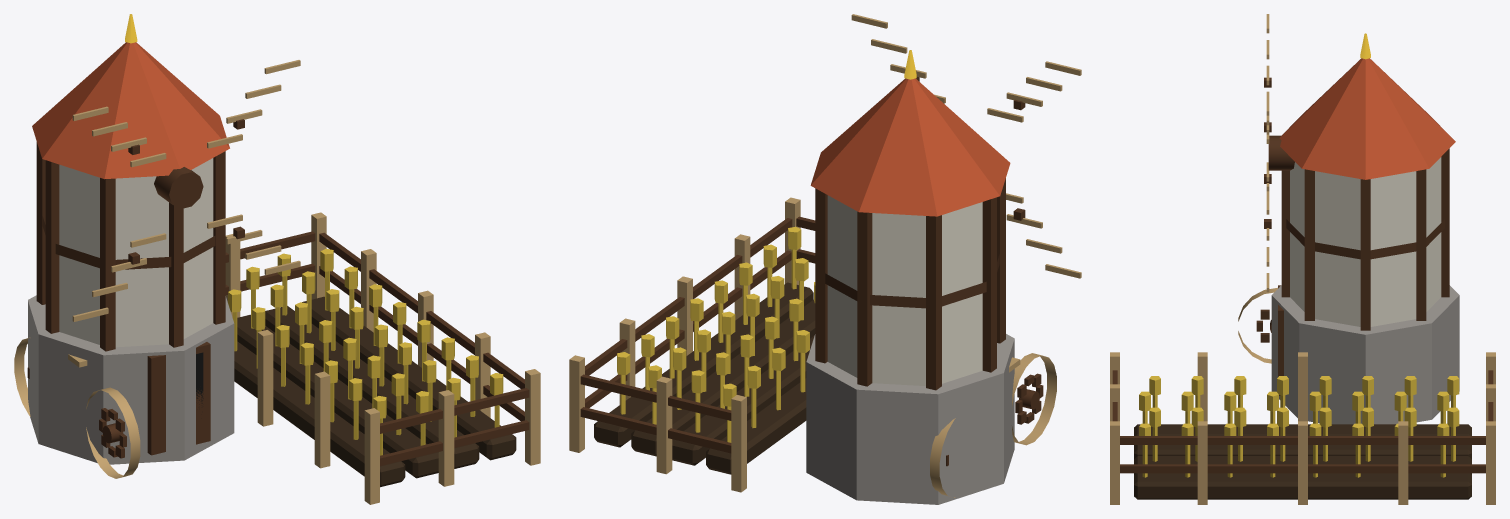
Rendered from AoE4_Farm.obj.
3 views of the same model, side by side, from view 1: azimuth 30°, elevation 25°; view 2: azimuth 150°, elevation 25°; view 3: azimuth 270°, elevation 25° (orthographic). The views are drawn at different scales.
Bounding box in the file's own units: 3.06 × 3.15 × 3.08.
